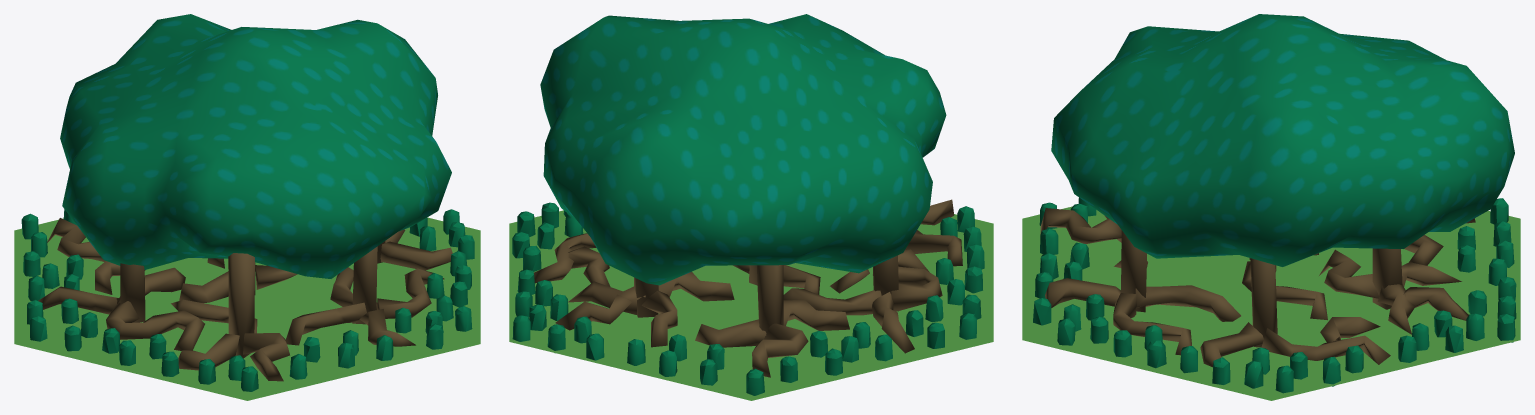
File: Forest_3.fbx
3 views of the same model, side by side, from view 1: azimuth 30°, elevation 25°; view 2: azimuth 150°, elevation 25°; view 3: azimuth 270°, elevation 25° (orthographic). The views are drawn at different scales.
Parts seen in each view (by area): view 1: Forest_3; view 2: Forest_3; view 3: Forest_3.
Part boxes in pixels (x1,y1,x2,y2): Forest_3: (14,14,480,400); Forest_3: (509,14,993,400); Forest_3: (1022,14,1520,400).
Bounding box in the file's own units: 139 × 71.76 × 120.
1 material, 1 textured.
